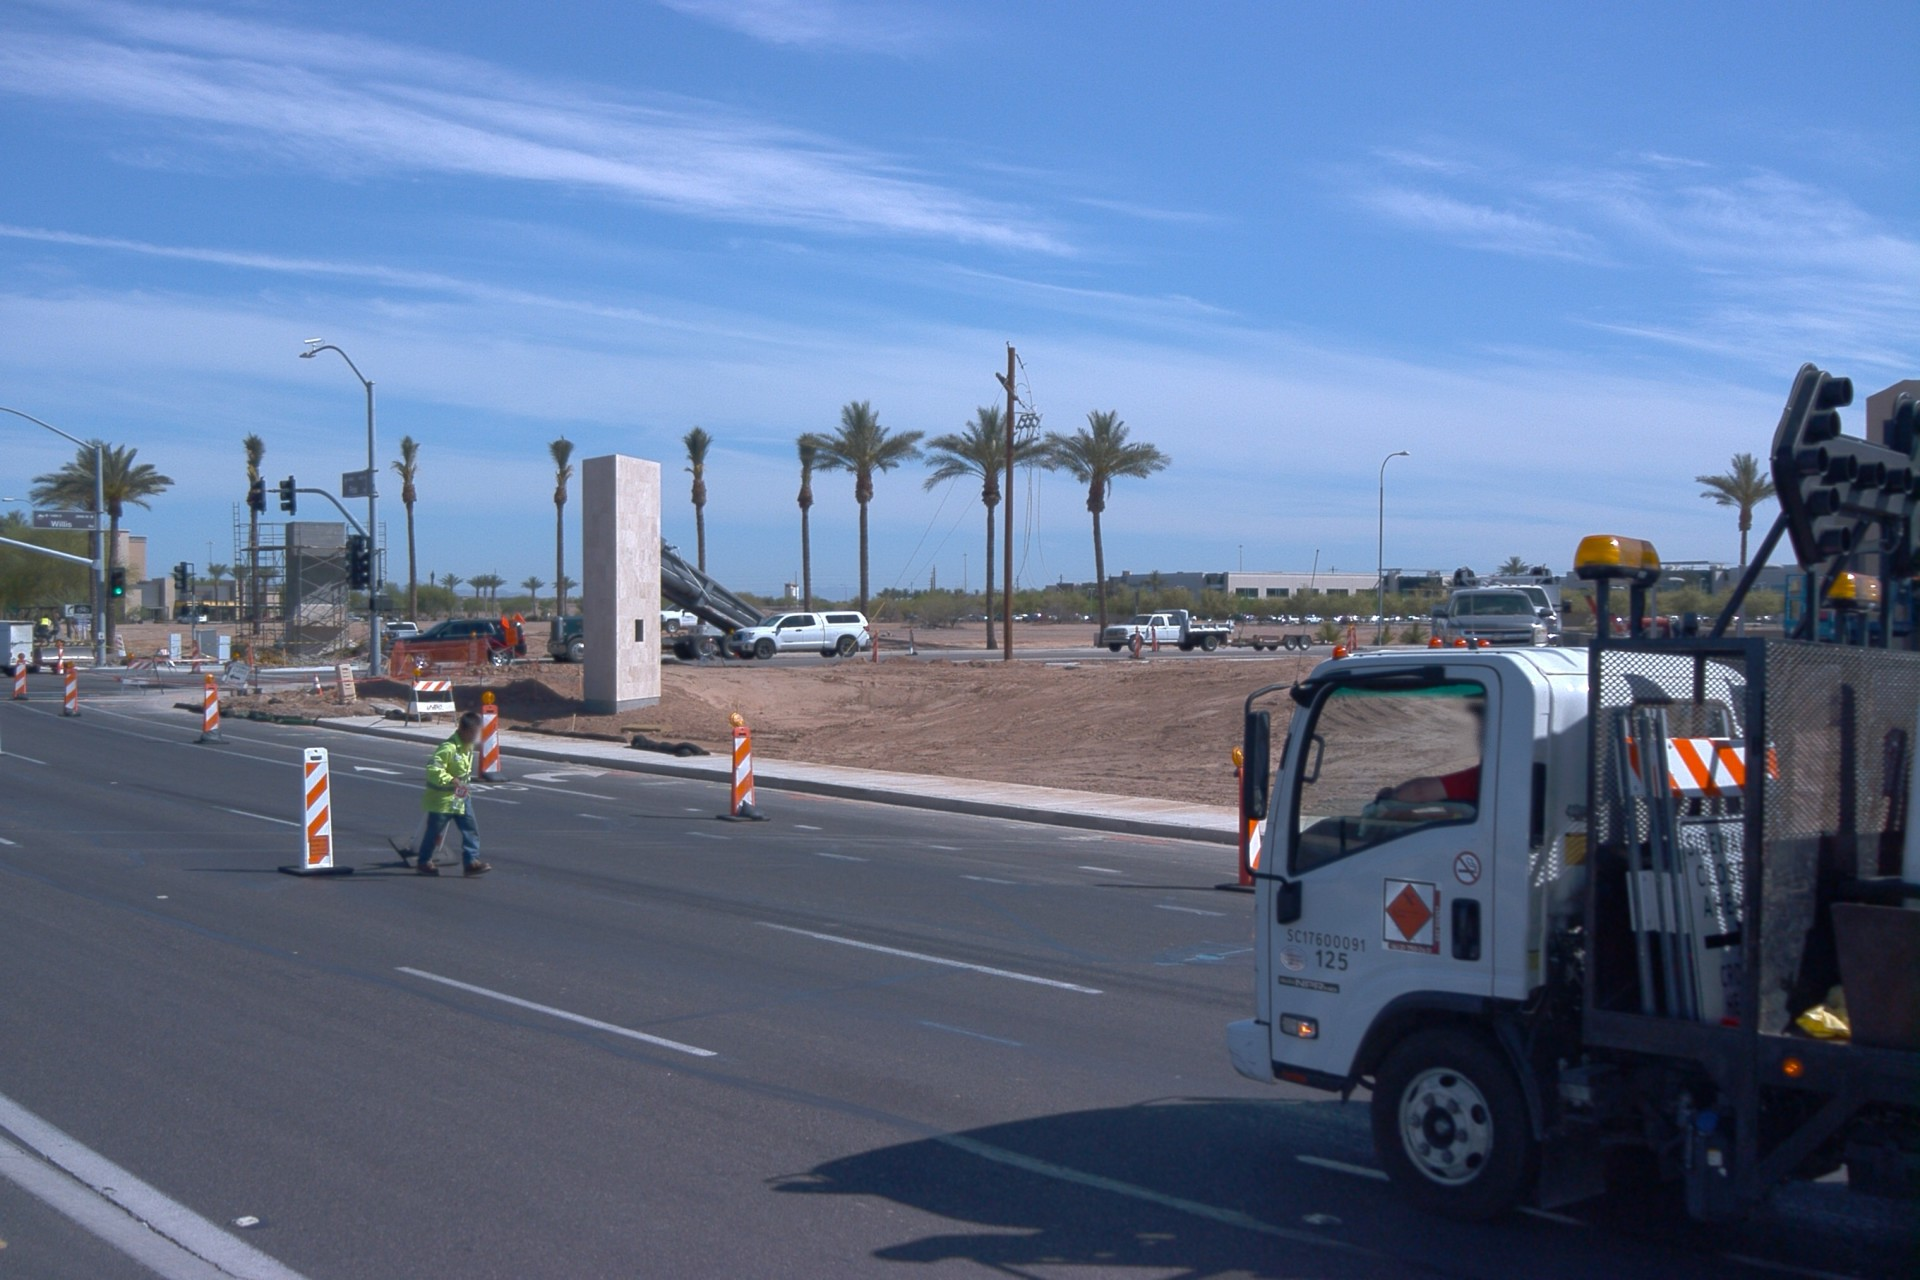TYPE_PEDESTRIAN: (414, 711, 492, 879), (34, 610, 55, 643)
TYPE_VEHICLE: (1228, 358, 1920, 1234), (545, 536, 768, 660), (1423, 580, 1553, 670), (1454, 560, 1570, 652), (379, 611, 531, 670), (1098, 603, 1244, 657), (723, 612, 872, 664), (16, 606, 98, 675), (1212, 627, 1313, 653), (0, 615, 37, 674), (660, 602, 701, 636), (377, 625, 422, 644), (175, 612, 208, 626), (1299, 615, 1325, 626), (1283, 615, 1301, 628)
